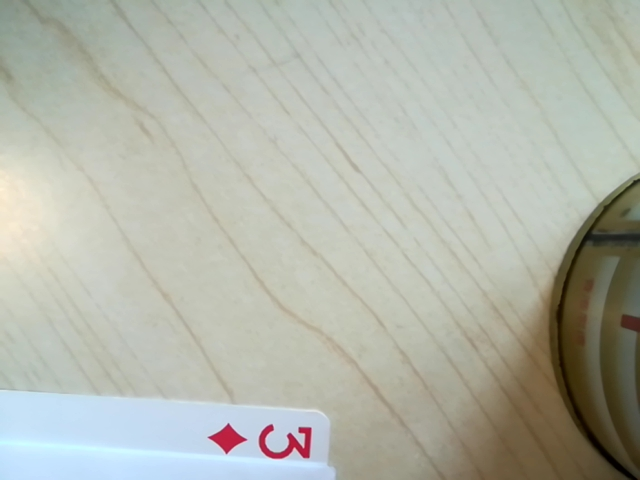fk 3: (235, 416, 329, 465)
